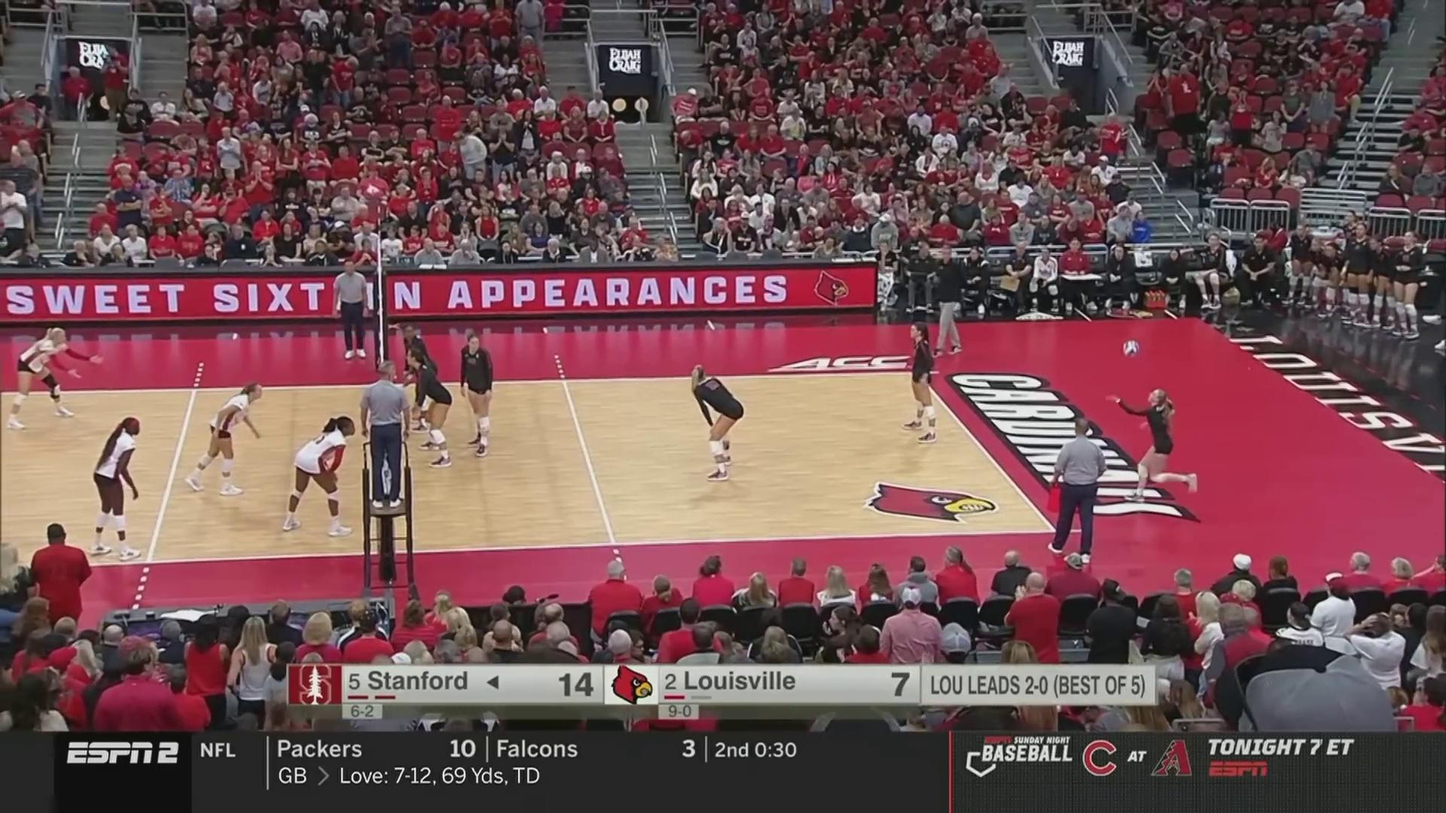player: (1114, 386, 1198, 502), (8, 326, 99, 426), (283, 416, 359, 535), (187, 385, 264, 494), (92, 418, 143, 559), (689, 364, 745, 480), (406, 349, 453, 465), (399, 324, 439, 431), (906, 322, 941, 439), (459, 334, 493, 450)
refree: (1051, 418, 1106, 564), (361, 364, 412, 506), (331, 260, 371, 358)
